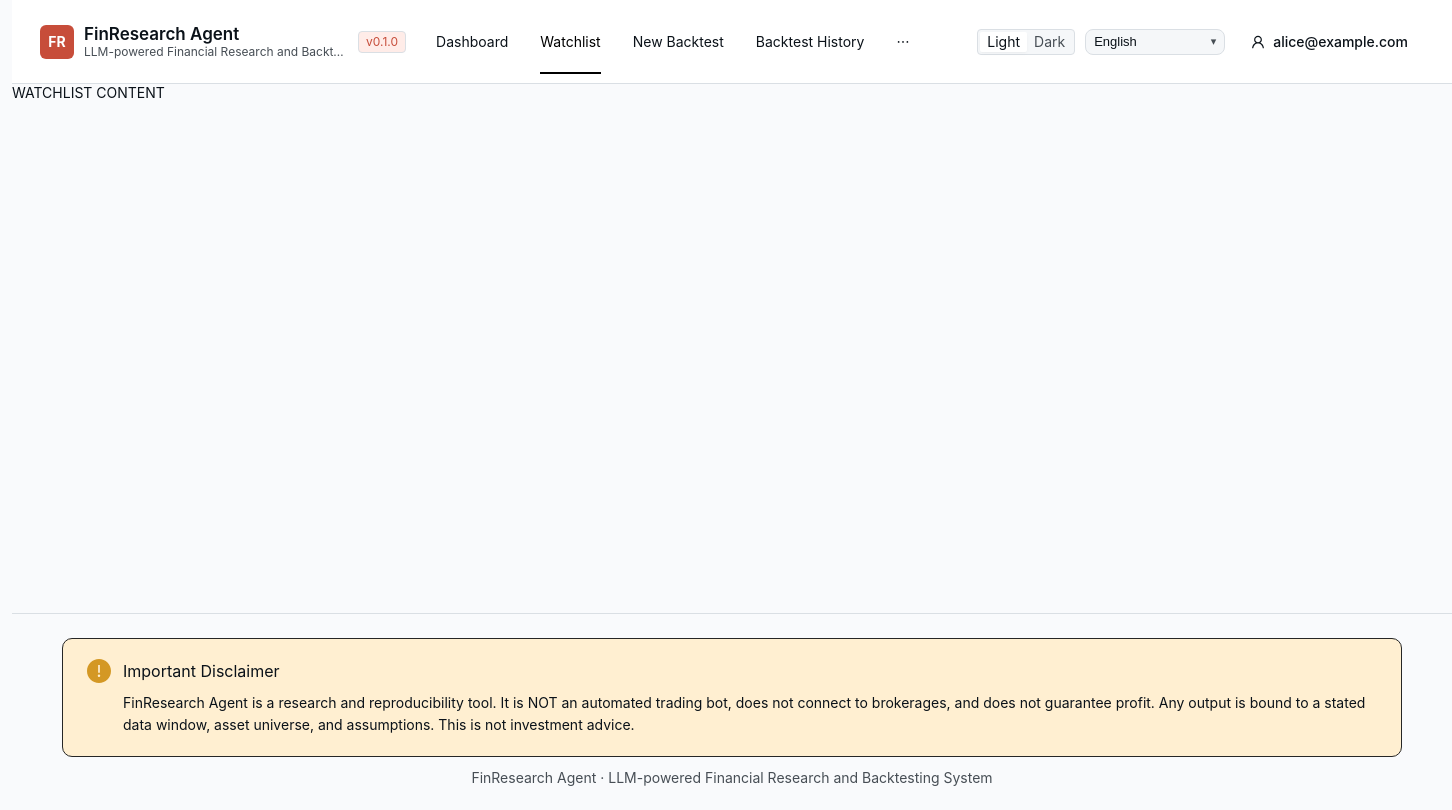
Test: App — Header user area › logs out and navigates to /login on sign-out click
Expected: the text "alice@example.com" is shown, [1273,33,1408,50]
Click the button "alice@example.com".
click(1330, 42)  # box [1235,26,1424,58]
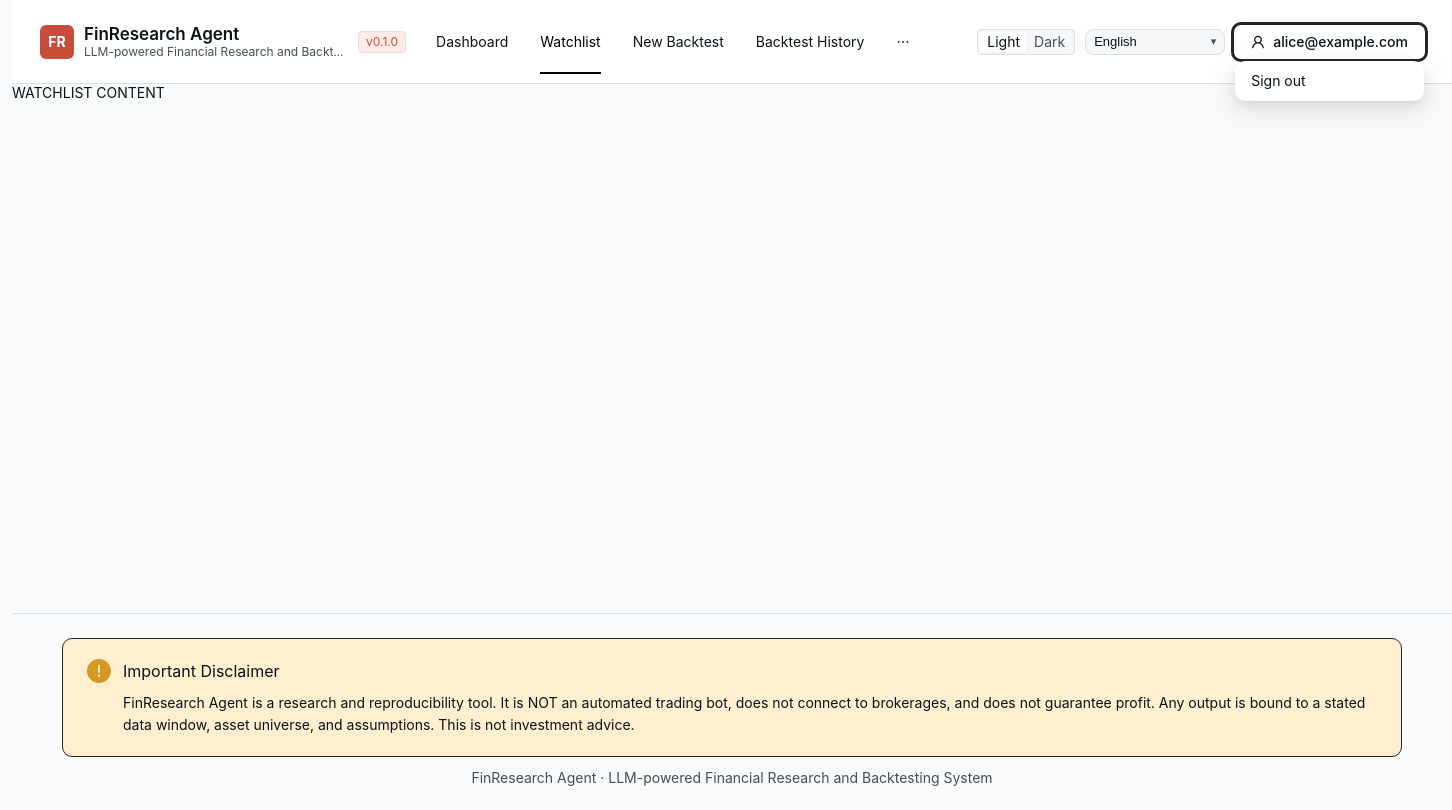
Click the menu item "Sign out".
click(1278, 80)  # box [1251,72,1306,89]
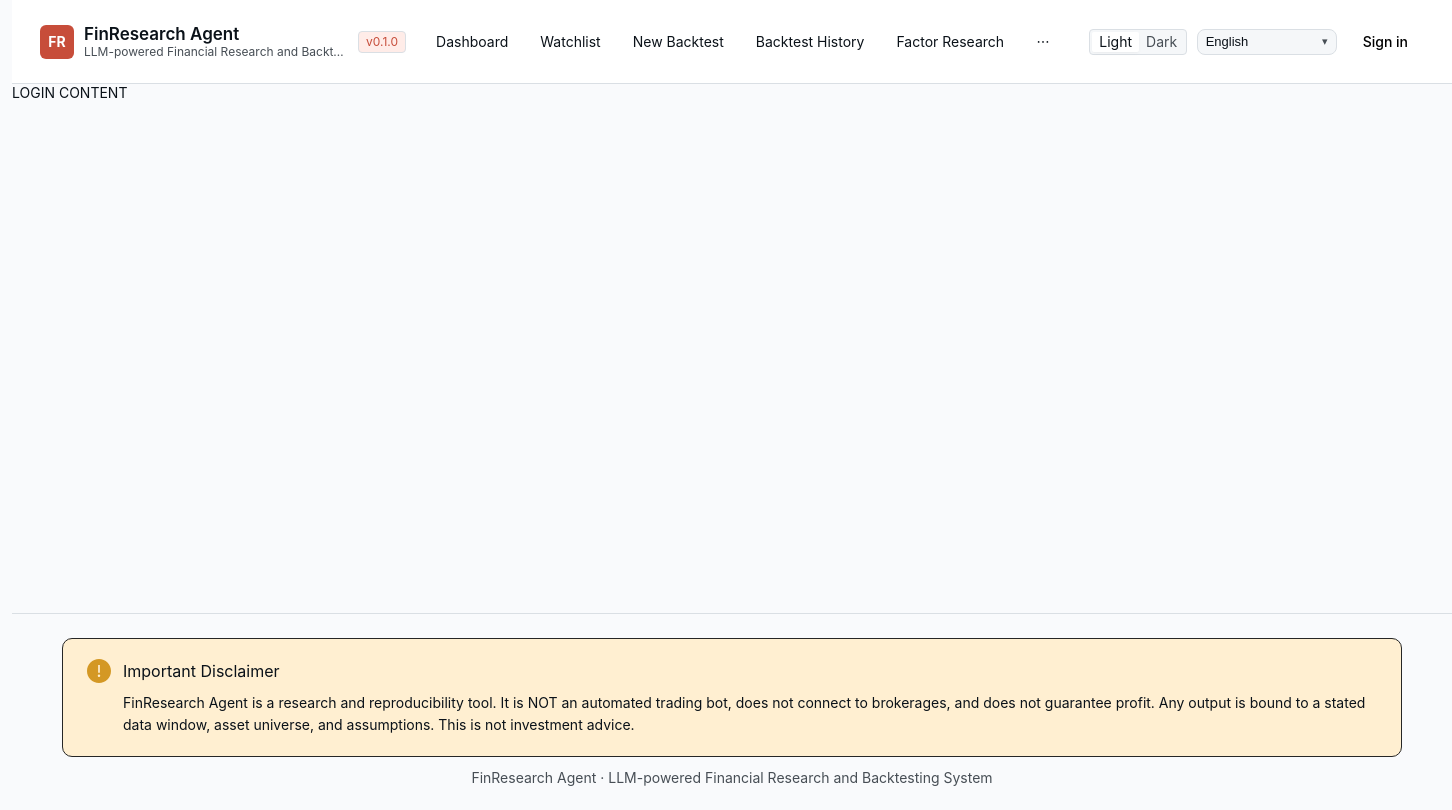
Expected: the text "LOGIN CONTENT" is shown, [12,84,127,101]
